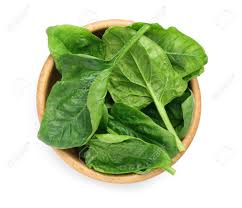spinach: (70, 44, 162, 153)
